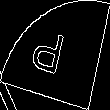P_S: (35, 26, 75, 84)
